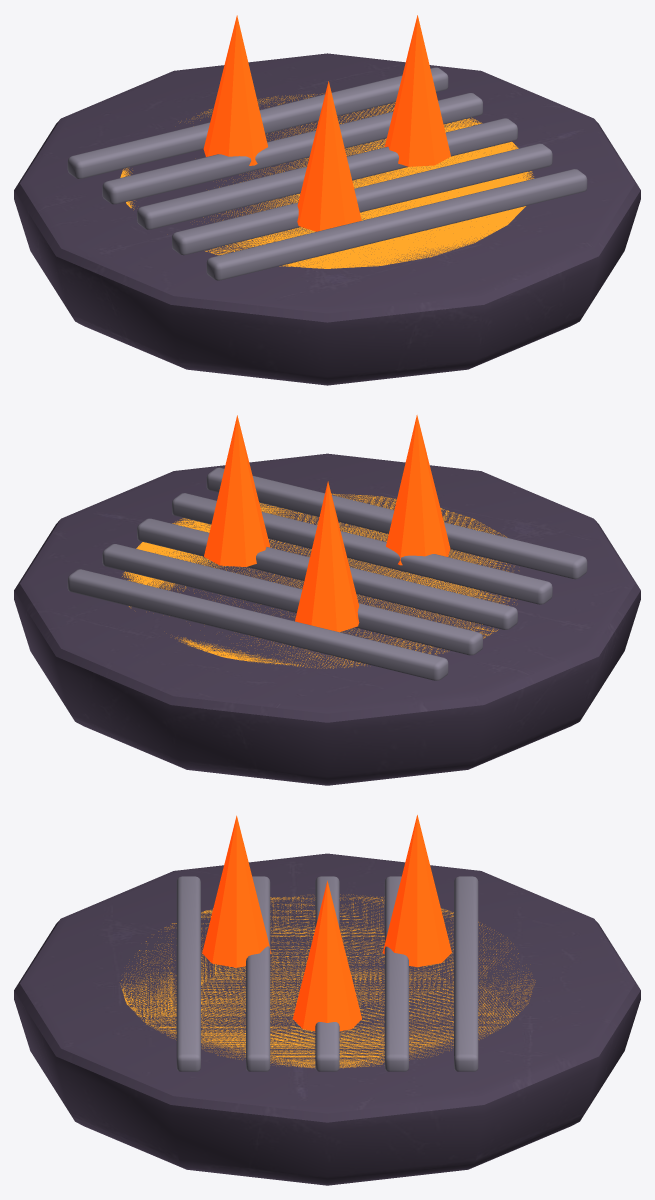
The model's file is hz_fire_vent_warning.glb.
The picture shows the model from 3 angles, top to bottom: view 1: azimuth 30°, elevation 25°; view 2: azimuth 150°, elevation 25°; view 3: azimuth 270°, elevation 25°; orthographic projection.
Parts seen in each view (by area): view 1: hz_fire_vent_warning; view 2: hz_fire_vent_warning; view 3: hz_fire_vent_warning.
Part boxes in pixels (box(x1,y1,x2,y2)): hz_fire_vent_warning: box(14, 15, 640, 385); hz_fire_vent_warning: box(14, 415, 640, 785); hz_fire_vent_warning: box(14, 815, 640, 1185).
Bounding box in the file's own units: 0.9035 × 0.3699 × 0.9035.
4 materials, 1 textured.
